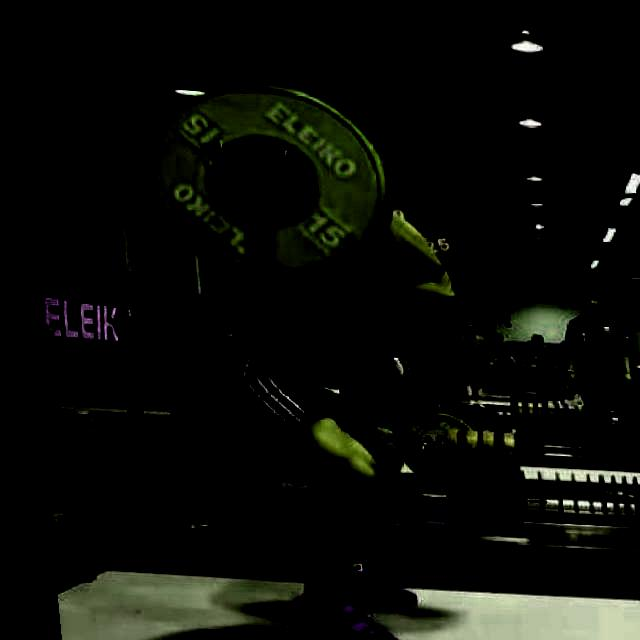barbell: (128, 69, 397, 291)
